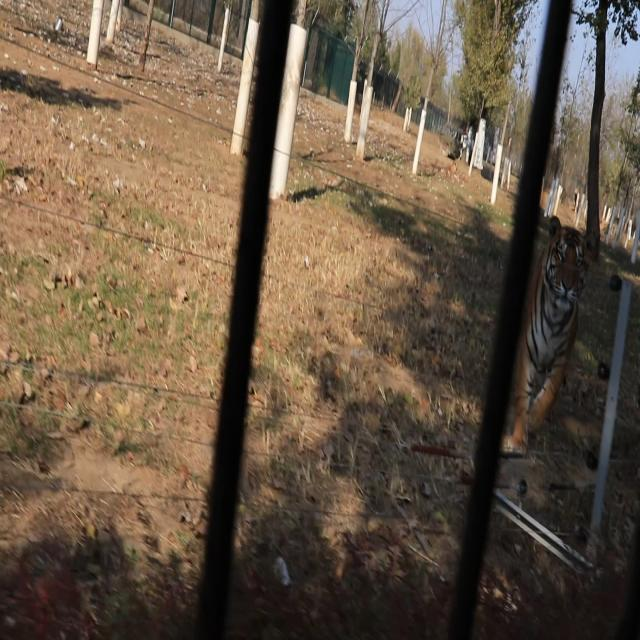Tiger: (510, 211, 590, 460)
